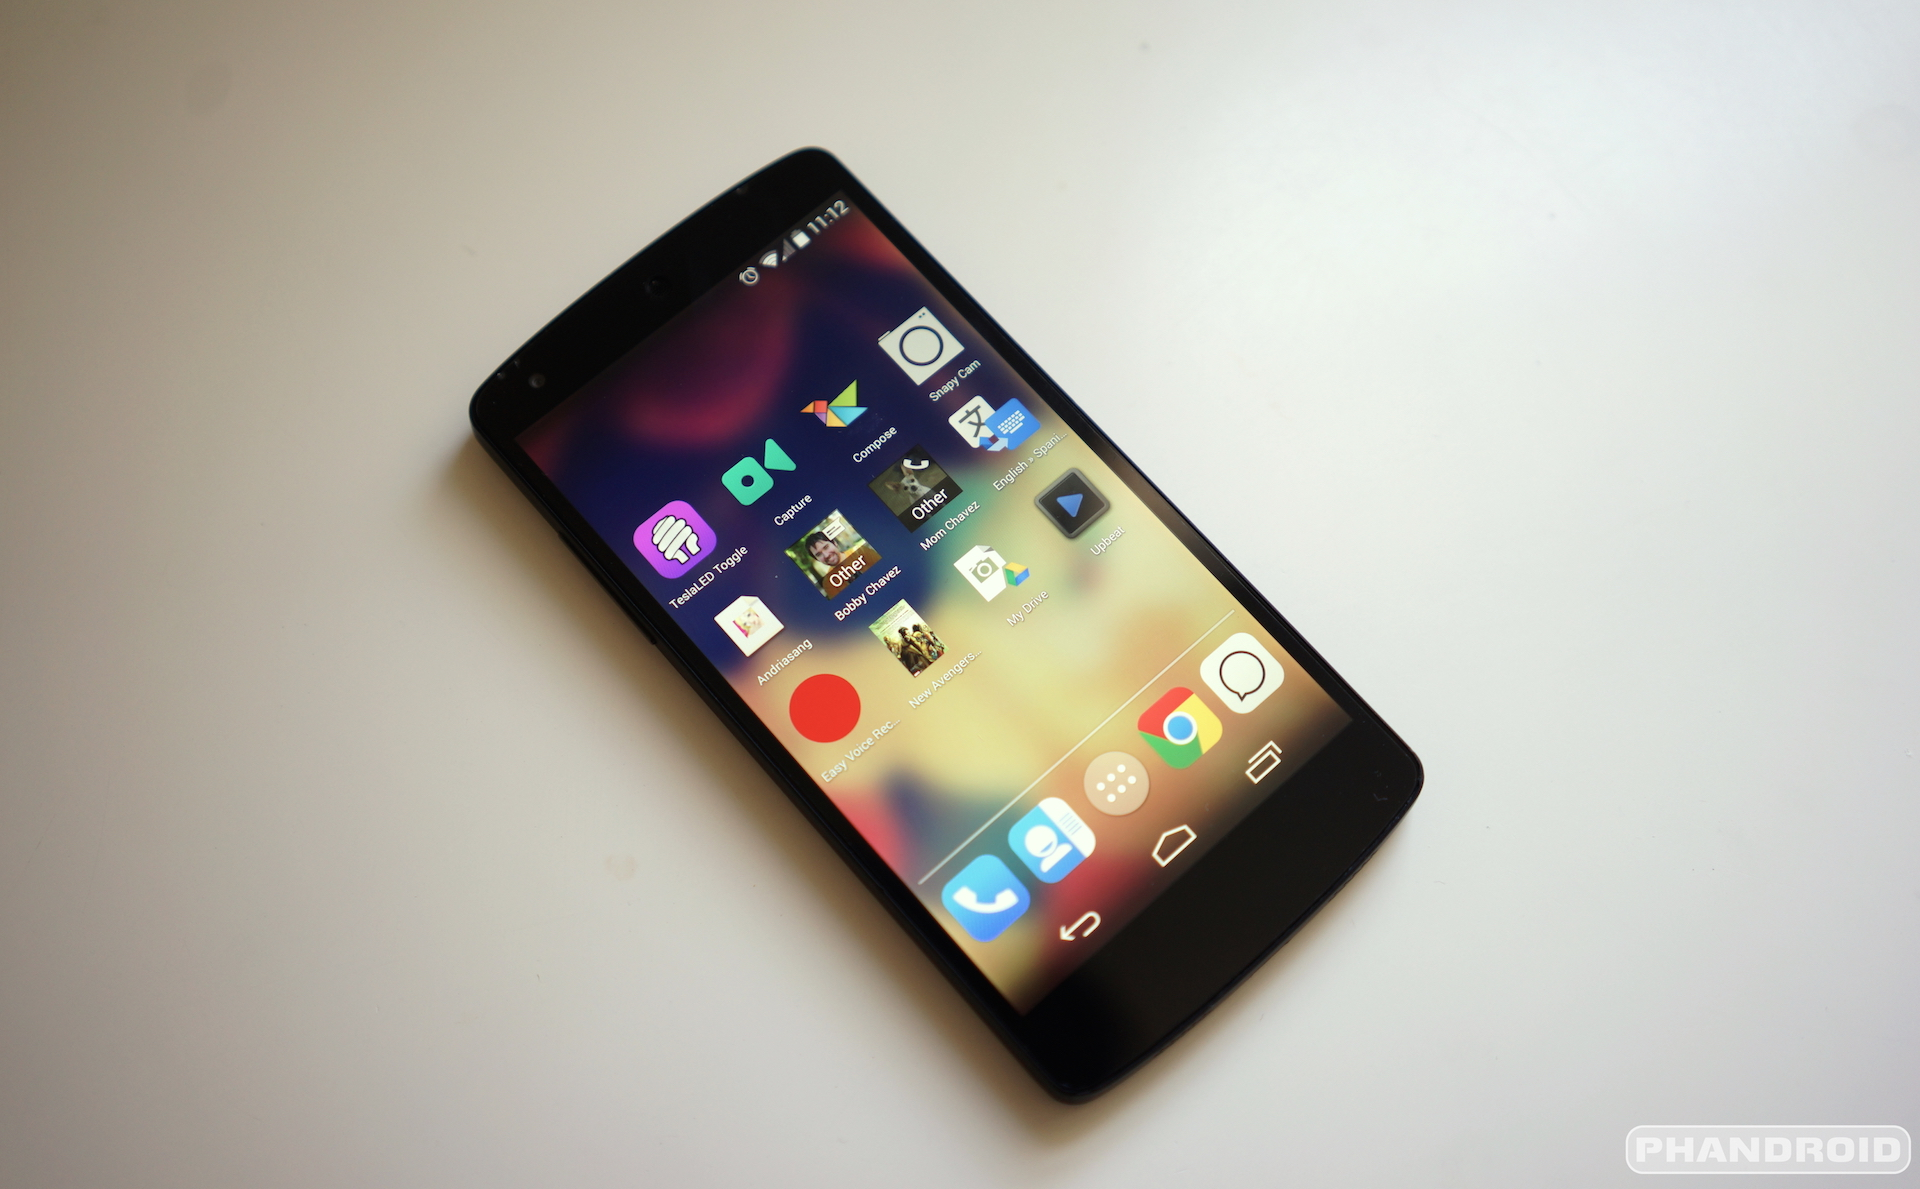smartphone: (468, 147, 1429, 1107)
